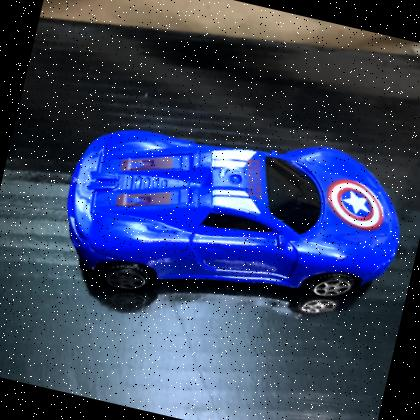Car: (65, 130, 400, 297)
